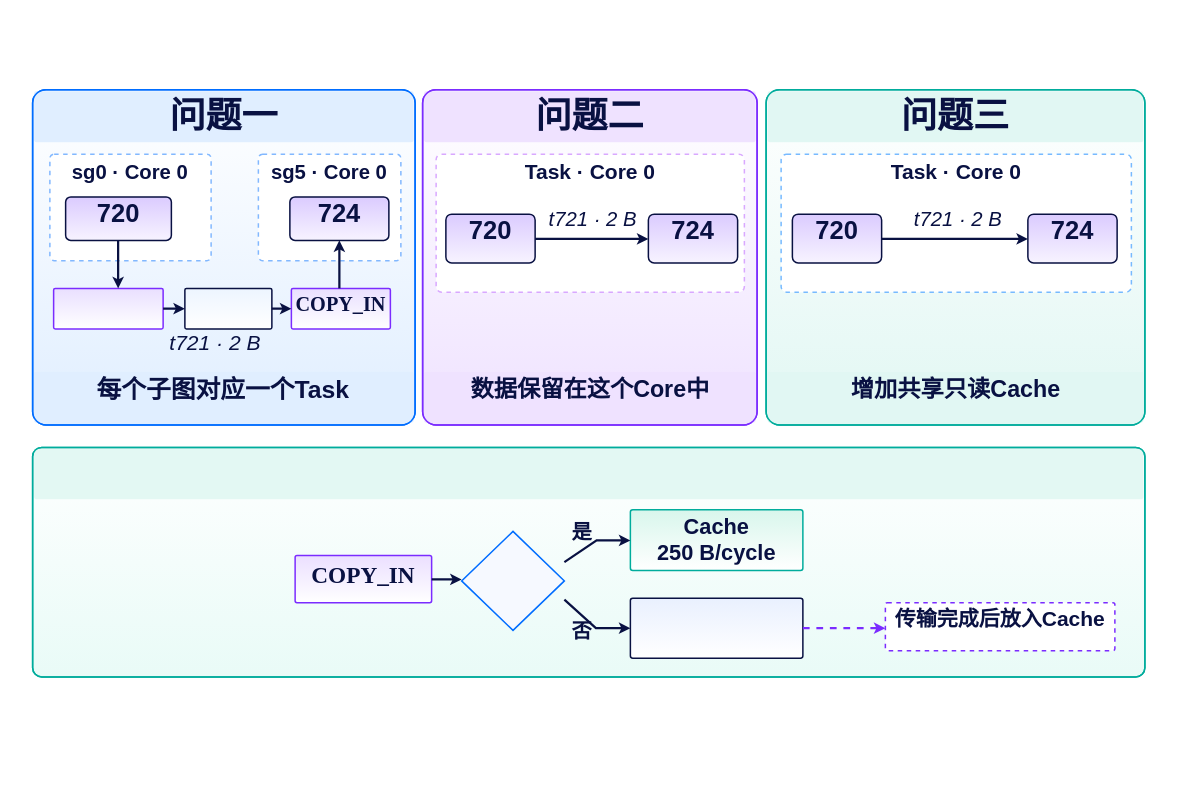
The diagram is 1178 pixels wide and 794 high, and some of its shapes have lost their labels. The shapes that lost their labels are listed below. From the top down, each one's centre as x and y in pixels, then its label:
At point 108,308: "COPY_OUT".
At point 228,308: "DDR".
At point 588,473: "问题三的读取位置".
At point 512,580: "命中？".
At point 716,627: "DDR 60 B/cycle".
